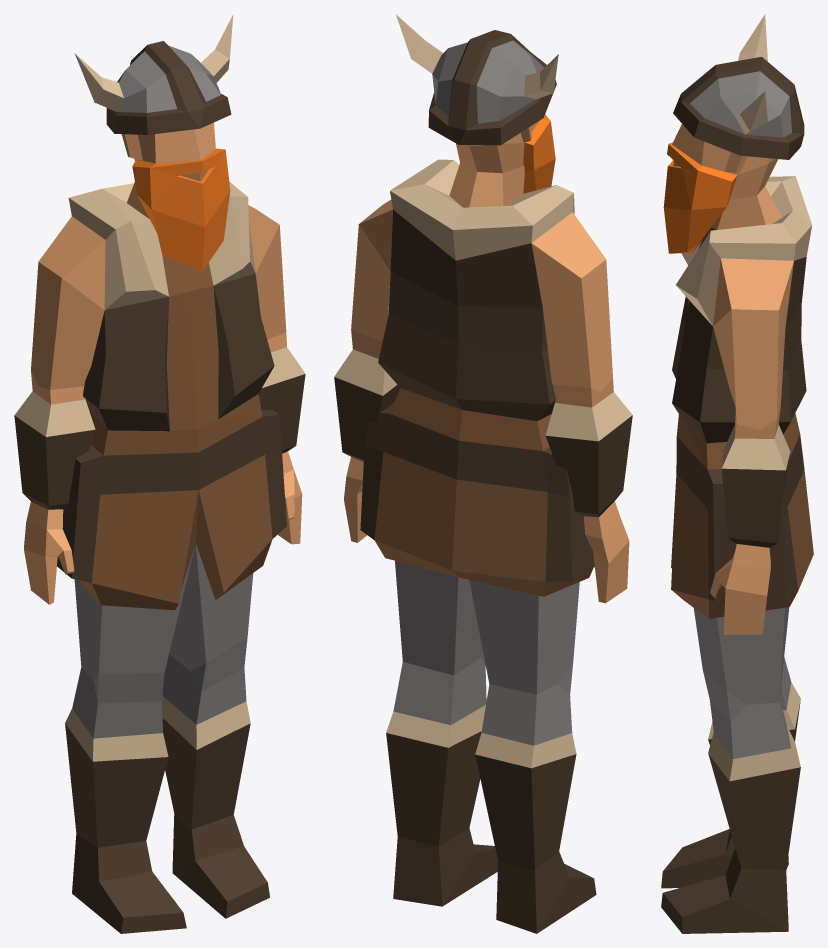
Rendered from people_man-viking.fbx.
The picture shows the model from 3 angles, left to right: view 1: azimuth 30°, elevation 25°; view 2: azimuth 150°, elevation 25°; view 3: azimuth 270°, elevation 25°; orthographic projection. The views are drawn at different scales.
Parts seen in each view (by area): view 1: people_man_viking; view 2: people_man_viking; view 3: people_man_viking.
Part boxes in pixels (x1,y1,x2,y2): people_man_viking: (14,14,305,933); people_man_viking: (334,14,632,933); people_man_viking: (661,14,813,933).
Bounding box in the file's own units: 63.78 × 200 × 32.75.
